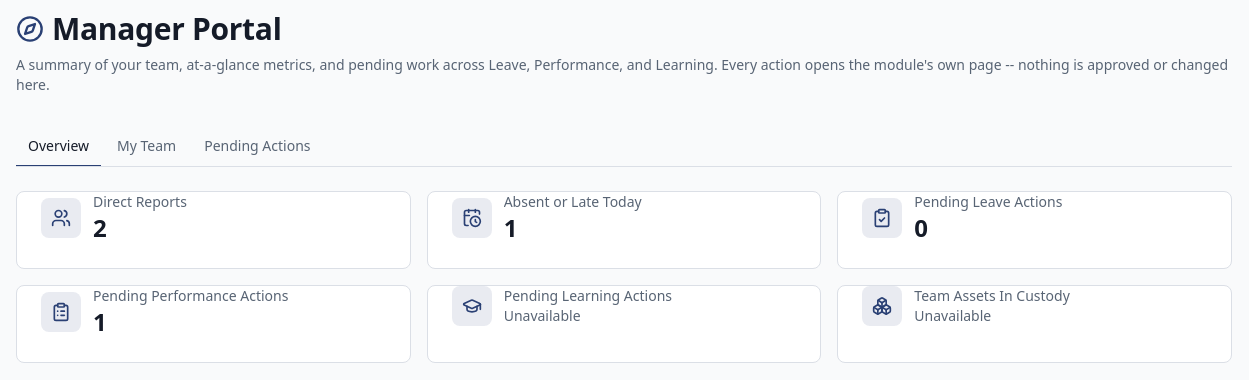
Manager Portal page › Pending Actions › renders a Leave item with source label, status, title, and employee name
This screenshot has width=1249, height=380.
Step 1. Click the tab with test id "tab-manager-pending-actions" → (257, 147), box [192,127,322,167]
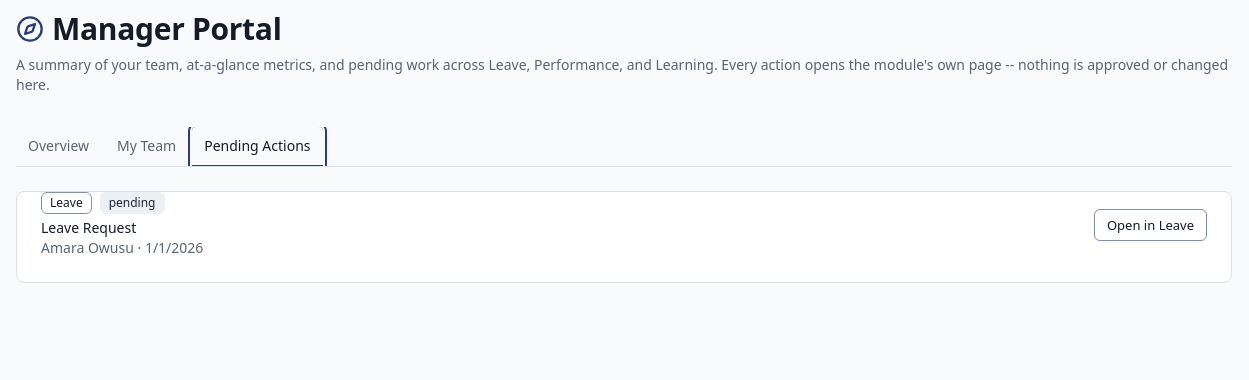
Check: the text with test id "badge-manager-pending-source-leave-1" reads "Leave", box [50,194,83,211]
Check: the element with test id "row-manager-pending-leave-1" shows "Leave Request", box [41,218,136,237]
Check: the element with test id "row-manager-pending-leave-1" shows "Amara Owusu", box [16,191,1232,283]
